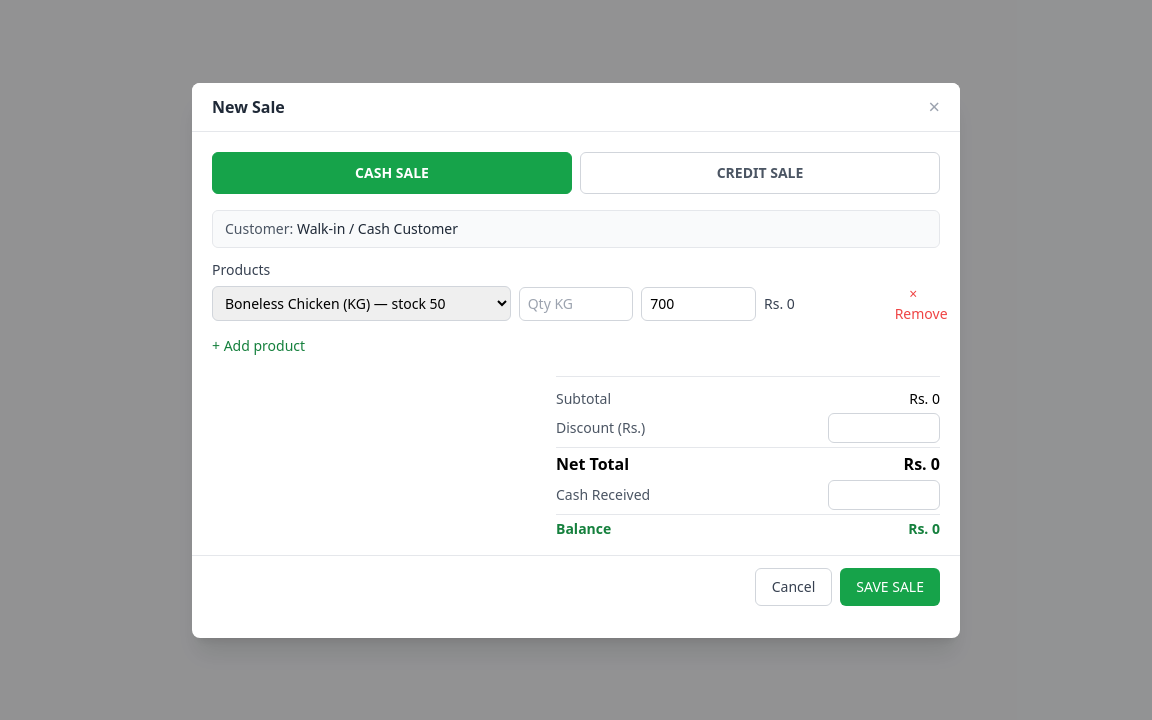
NewSaleModal — Credit Sale › saves a credit sale against the selected customer with the correct amount due
Click the button "CREDIT SALE".
click(760, 172)  # box 580,152 -> 940,194
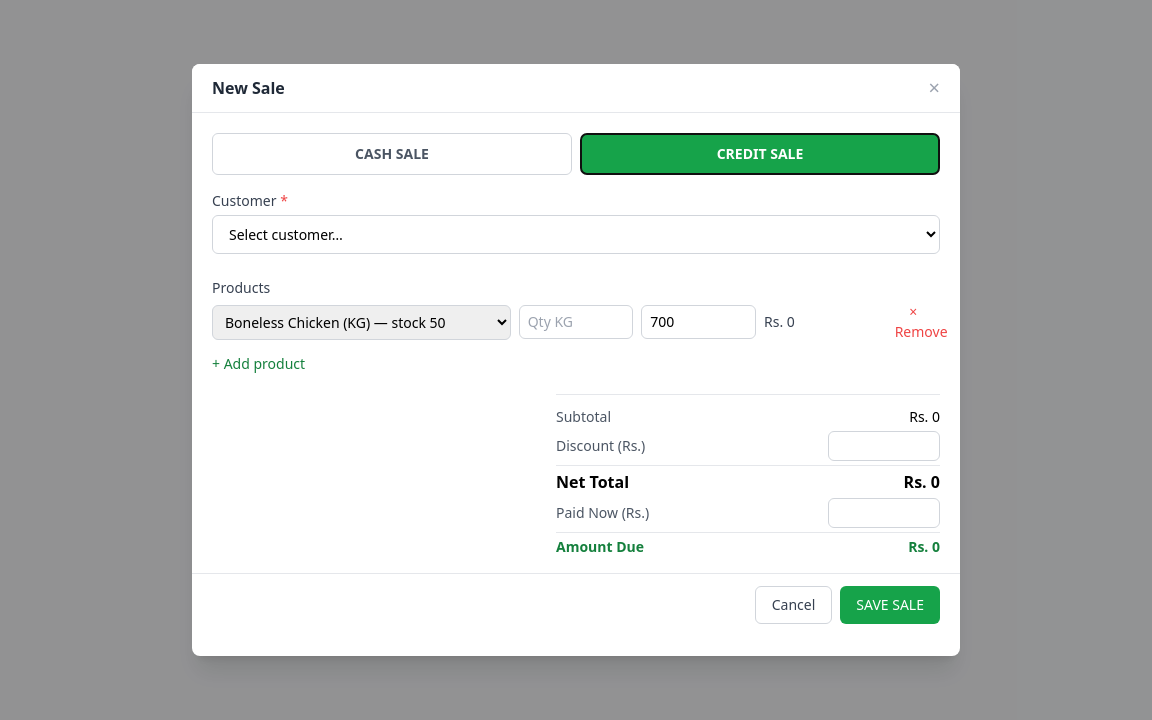
Select "Restaurant XYZ (owes Rs. 5,000)" in the dropdown named "Customer" at (576, 234), box 212,215 -> 940,254
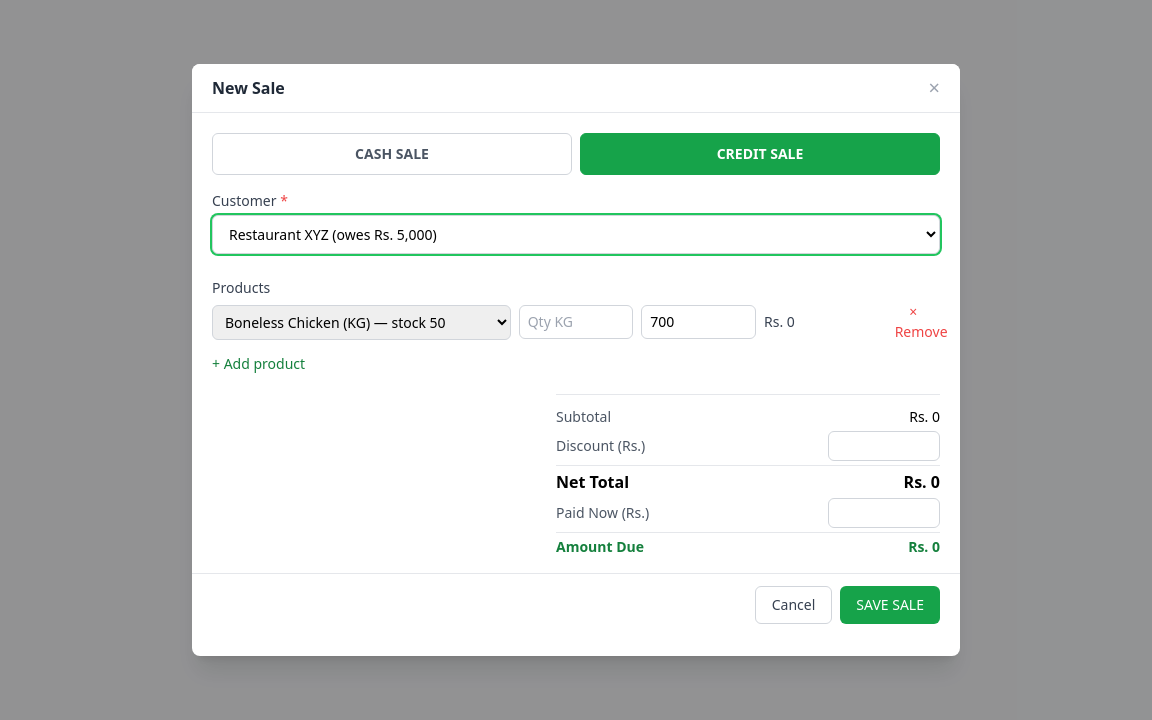
Select "Boneless Chicken (KG) — stock 50" in the dropdown named "Product" at (361, 322), box 212,304 -> 511,340
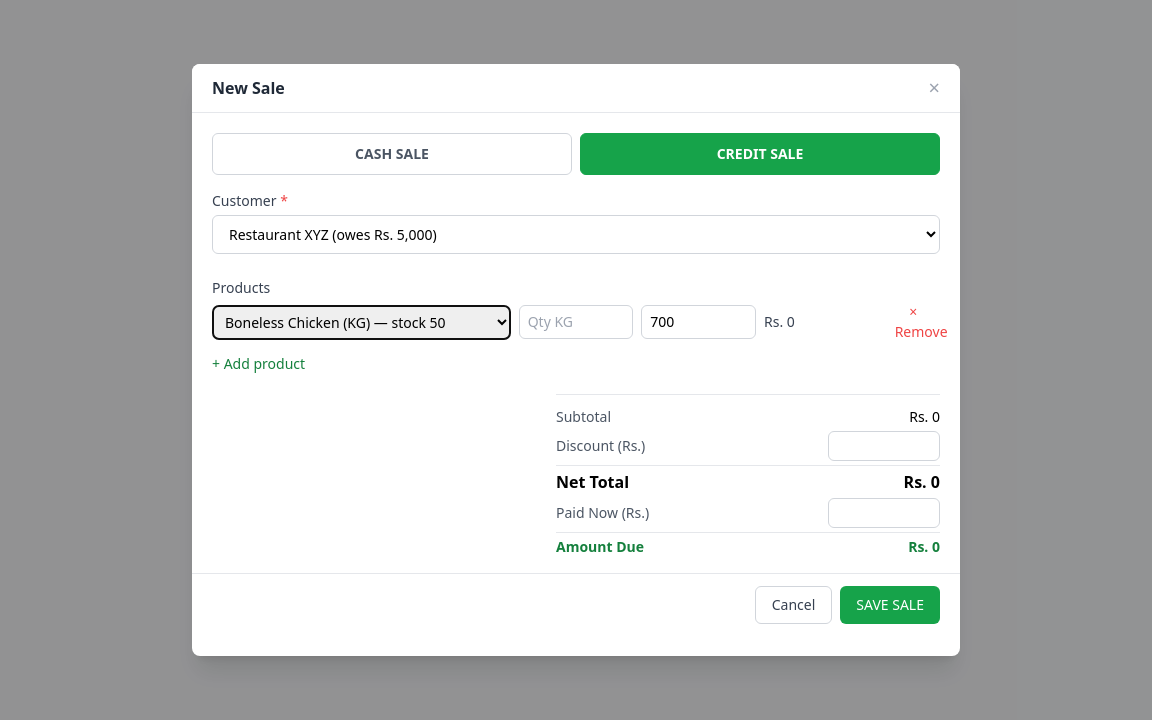
Type "10" into the number field named "Quantity".
click(576, 322); type("10")  # box 519,305 -> 633,339
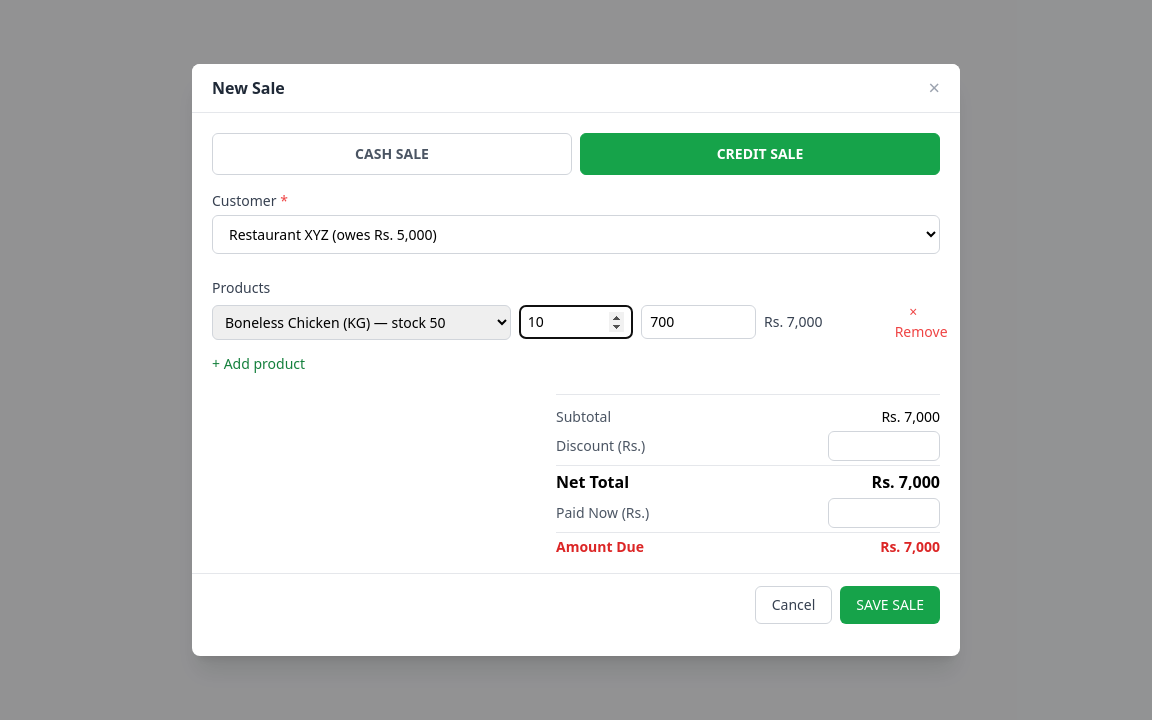
Click the button "SAVE SALE".
click(890, 605)  # box 840,586 -> 940,624
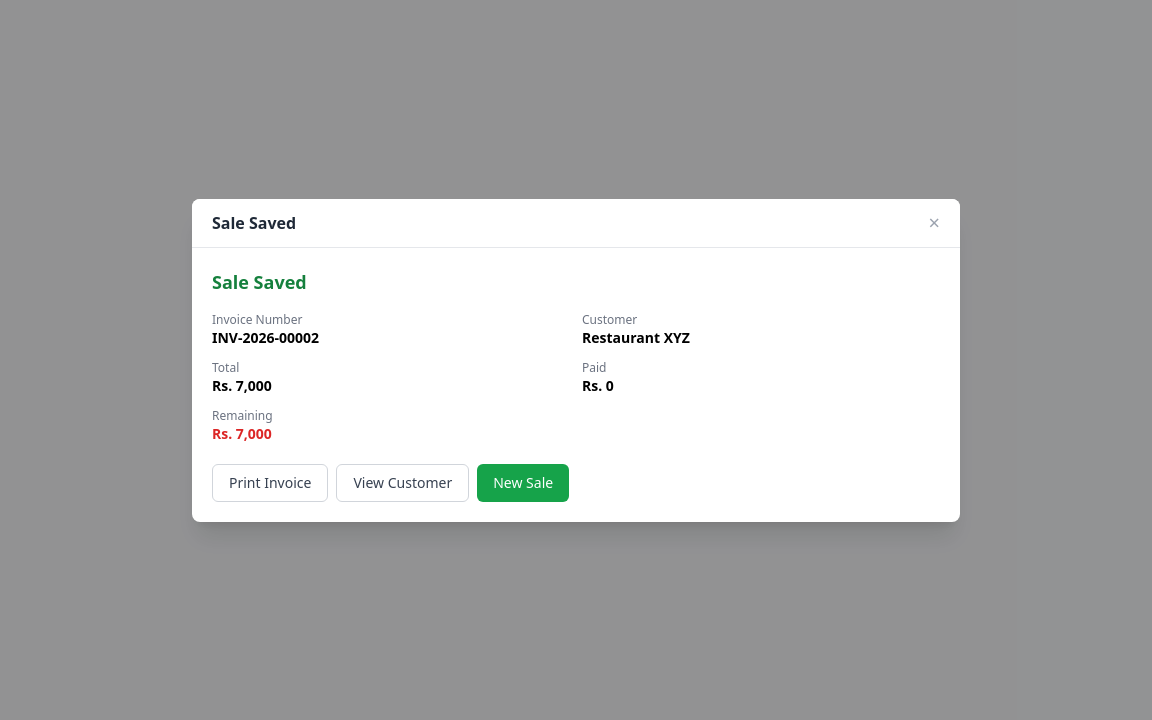
Now the text "Total" shows "Rs. 7,000", box 212,376 -> 272,394
Now the text "Invoice Number" is shown, box 212,310 -> 302,328
Now the text "Paid" shows "Rs. 0", box 582,376 -> 614,394
